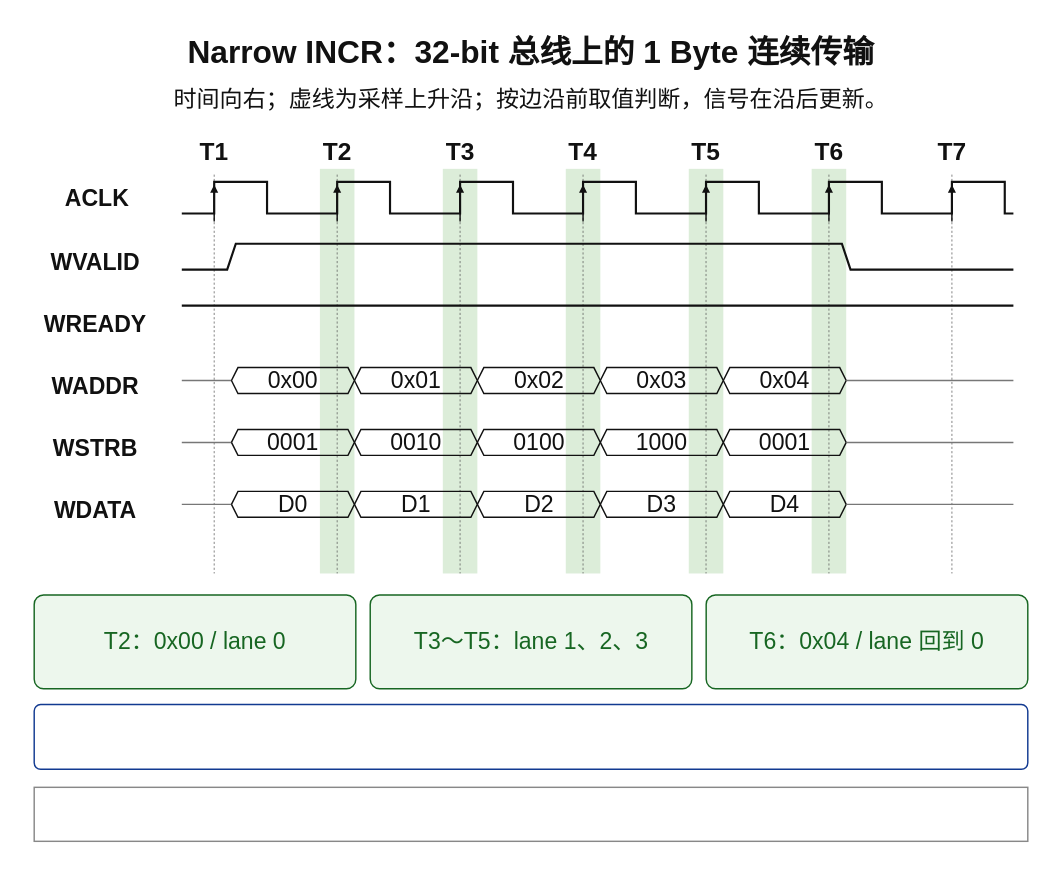
The diagram is 1061 pixels wide and 886 high, and some of its shapes have lost their labels. Here are the shapes that lost their labels. From the top down, the centre of each, then its label:
point 530,736: 每个采样沿完成 1 Byte；lane 只在总线字边界重新编号，地址不会回退。
point 530,814: 32-bit 总线；AxSIZE=0，AxLEN=4（5 拍），INCR；WREADY 始终为 1。
